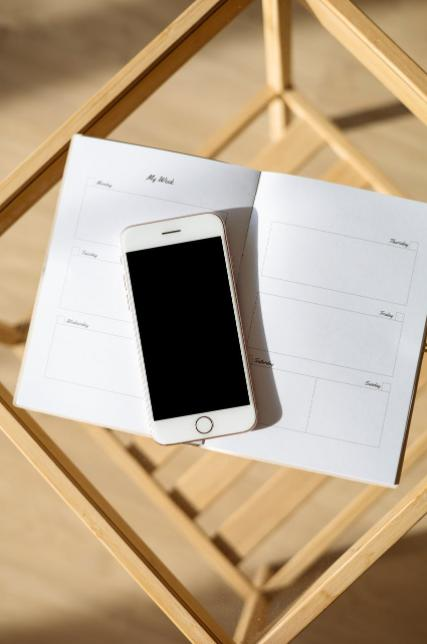mobile: (121, 211, 257, 444)
